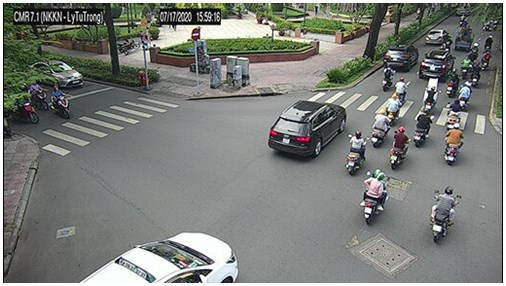di_bo: (313, 4, 319, 16)
xe_ba_gac: (453, 26, 472, 51)
xe_hoi: (76, 231, 238, 283), (268, 99, 347, 158), (28, 60, 85, 88), (384, 43, 419, 71), (419, 51, 453, 79), (426, 28, 451, 45)
xe_may: (360, 169, 390, 225), (430, 185, 458, 242), (345, 130, 366, 174), (11, 94, 39, 124), (444, 123, 463, 166), (49, 87, 72, 120), (370, 108, 388, 149), (413, 108, 431, 146), (28, 80, 48, 110), (445, 99, 461, 131), (117, 37, 140, 56), (385, 94, 399, 124), (394, 75, 408, 103), (446, 69, 459, 98), (423, 86, 437, 111), (380, 68, 393, 91), (479, 51, 492, 70), (470, 62, 480, 86), (460, 82, 471, 103), (481, 35, 494, 49), (462, 57, 469, 80), (482, 18, 492, 32), (469, 46, 479, 60), (492, 19, 499, 32), (458, 14, 465, 25)
